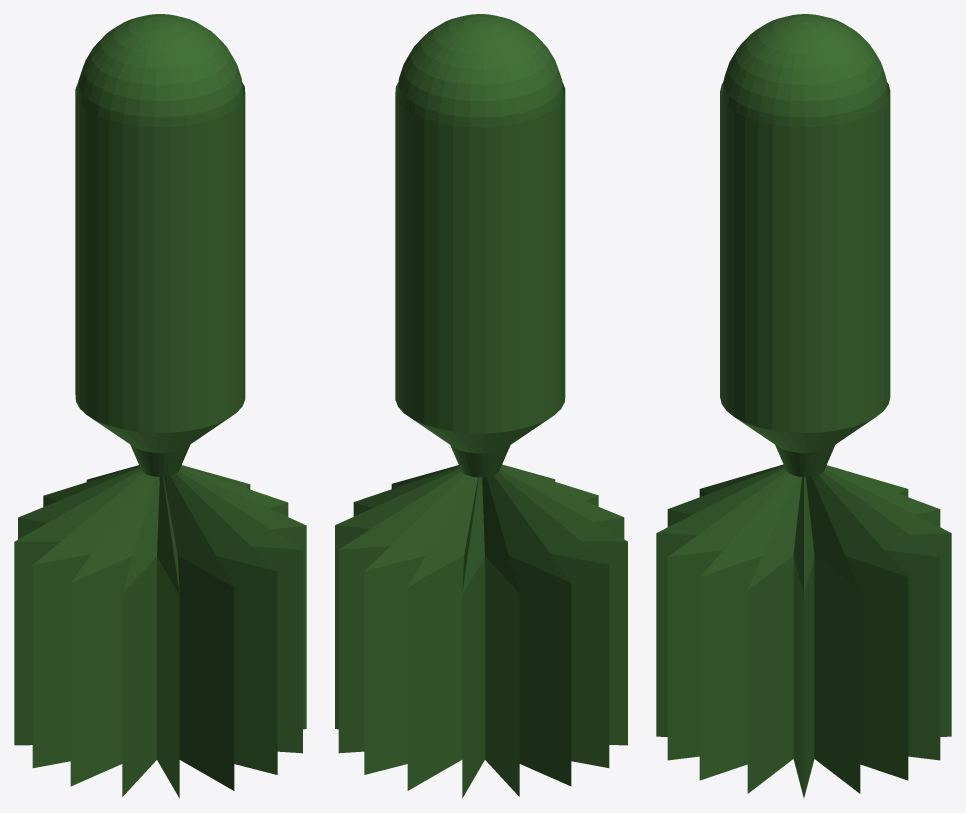
File: mortar.fbx
The picture shows the model from 3 angles, left to right: view 1: azimuth 30°, elevation 25°; view 2: azimuth 150°, elevation 25°; view 3: azimuth 270°, elevation 25°; orthographic projection.
Visible parts, largest first — view 1: Sphere; view 2: Sphere; view 3: Sphere.
Part boxes in pixels (box(x1,y1,x2,y2)): Sphere: box(14, 14, 306, 798); Sphere: box(335, 14, 627, 798); Sphere: box(656, 14, 951, 797).
Size of the model in its own units: 549 by 1466 by 549.
